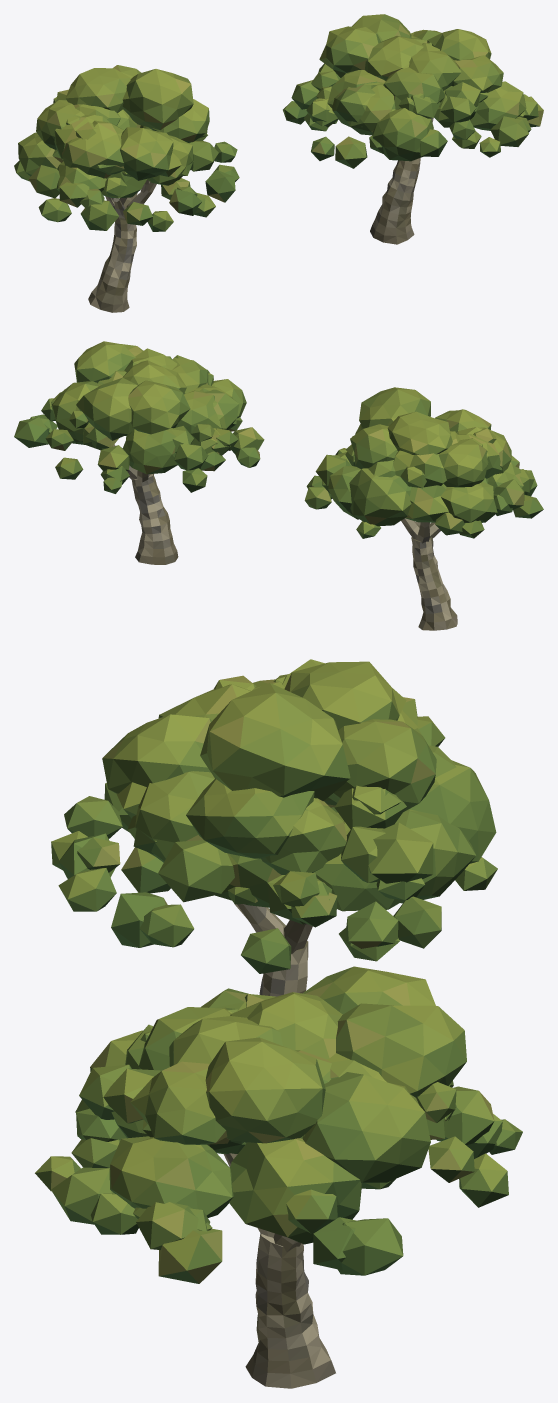
File: plane_tree.glb
The picture shows the model from 3 angles, top to bottom: view 1: azimuth 30°, elevation 25°; view 2: azimuth 150°, elevation 25°; view 3: azimuth 270°, elevation 25°; orthographic projection. The views are drawn at different scales.
Visible parts, largest first — view 1: plane_tree_a, plane_tree_b; view 2: plane_tree_a, plane_tree_b; view 3: plane_tree_b, plane_tree_a.
Part boxes in pixels (box(x1,y1,x2,y2)): plane_tree_a: box(14, 65, 239, 312); plane_tree_b: box(283, 14, 543, 244); plane_tree_a: box(304, 387, 543, 630); plane_tree_b: box(14, 341, 264, 564); plane_tree_b: box(35, 966, 522, 1388); plane_tree_a: box(51, 659, 497, 996).
Bounding box in the file's own units: 24.55 × 10.83 × 10.59.
